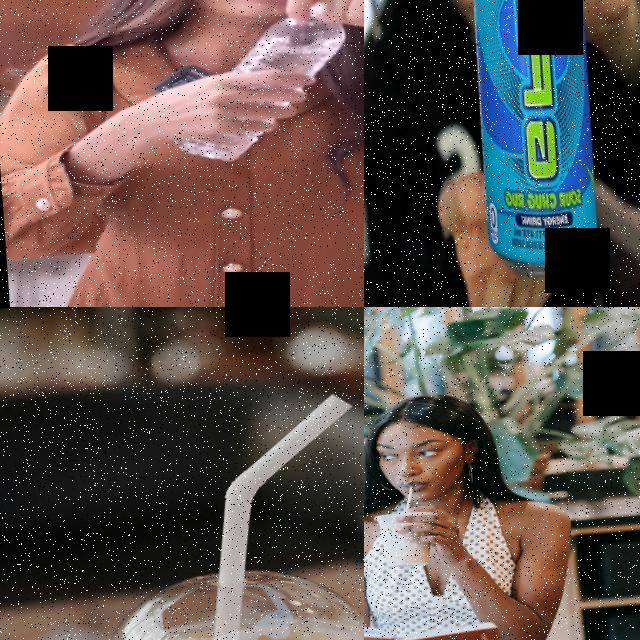bottle: (160, 0, 356, 165)
can: (453, 0, 604, 290)
cup: (68, 559, 364, 640), (371, 508, 439, 570)
